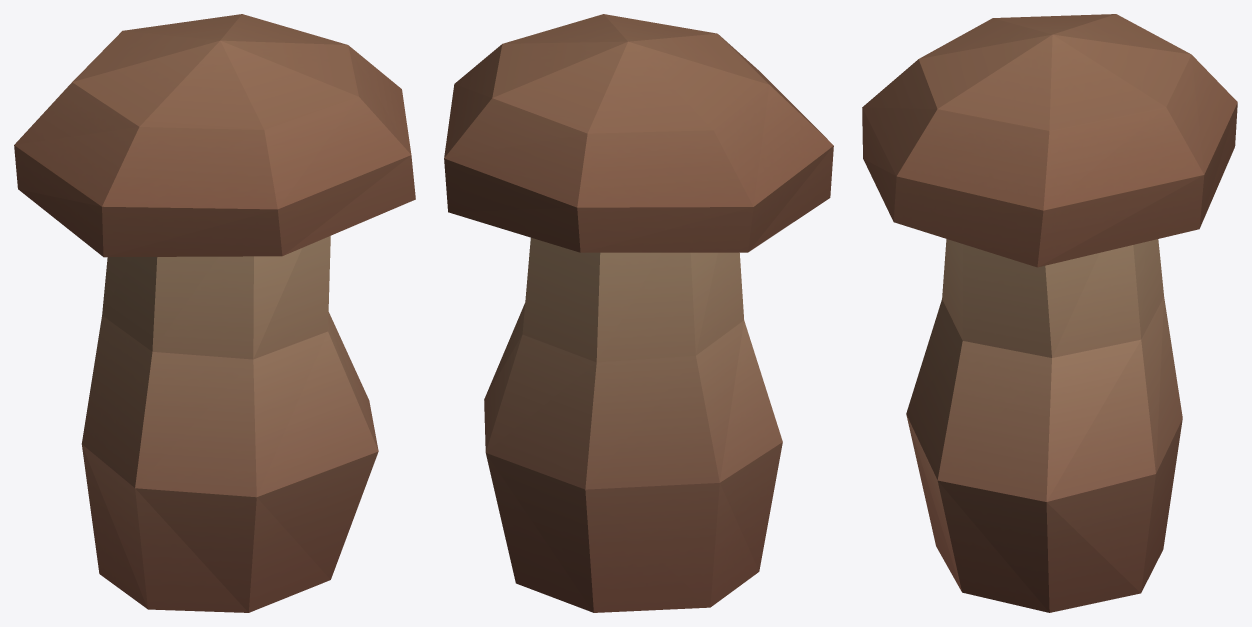
File: Cavern_MushroomThick-02.fbx
3 views of the same model, side by side, from view 1: azimuth 30°, elevation 25°; view 2: azimuth 150°, elevation 25°; view 3: azimuth 270°, elevation 25° (orthographic).
Parts seen in each view (by area): view 1: Cavern_MushroomThick-02; view 2: Cavern_MushroomThick-02; view 3: Cavern_MushroomThick-02.
Boxes of the visible parts, x1,y1,x2,y2 form: Cavern_MushroomThick-02: (14, 14, 415, 612); Cavern_MushroomThick-02: (444, 14, 833, 612); Cavern_MushroomThick-02: (862, 14, 1237, 612).
Bounding box in the file's own units: 28.7 × 41.59 × 26.9.
Materials: 1 (1 with a texture image).
